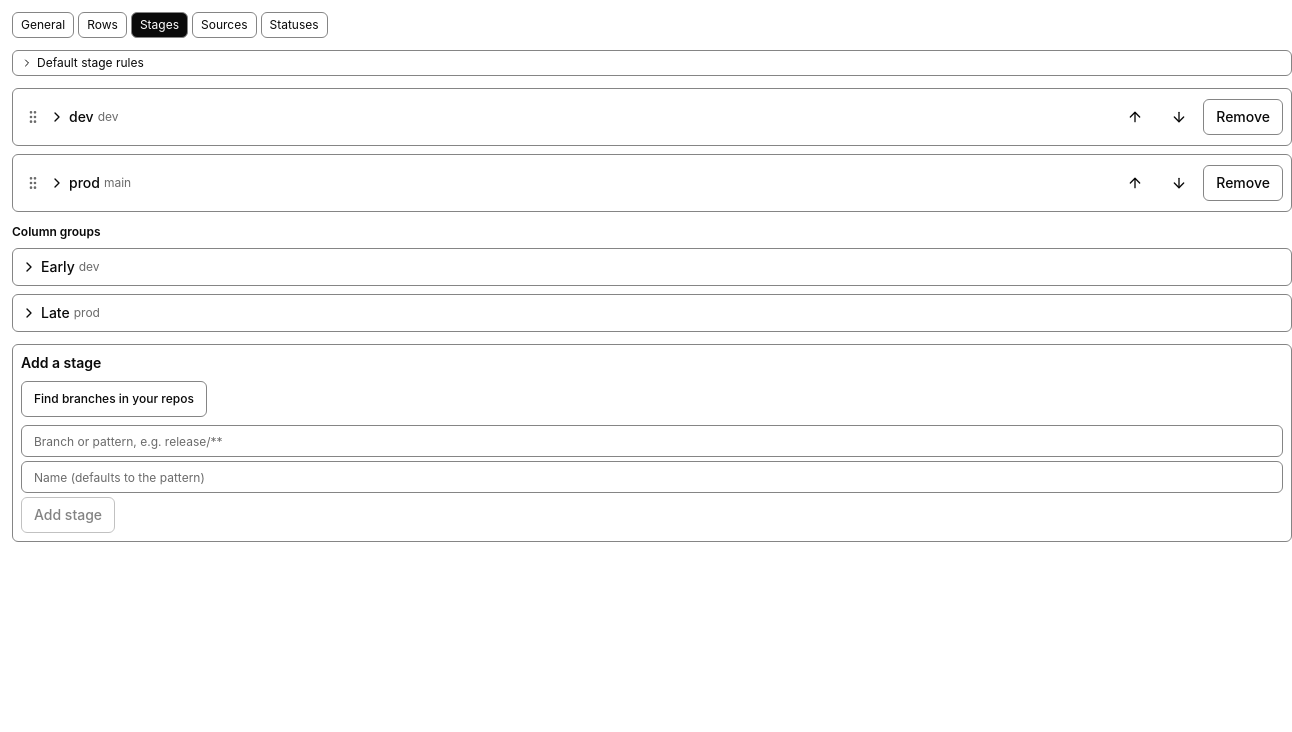
Test: one open at a time › opens a stage with its rules shown (one click)
Click the button "dev dev": (57, 117) [49,107,1111,127]
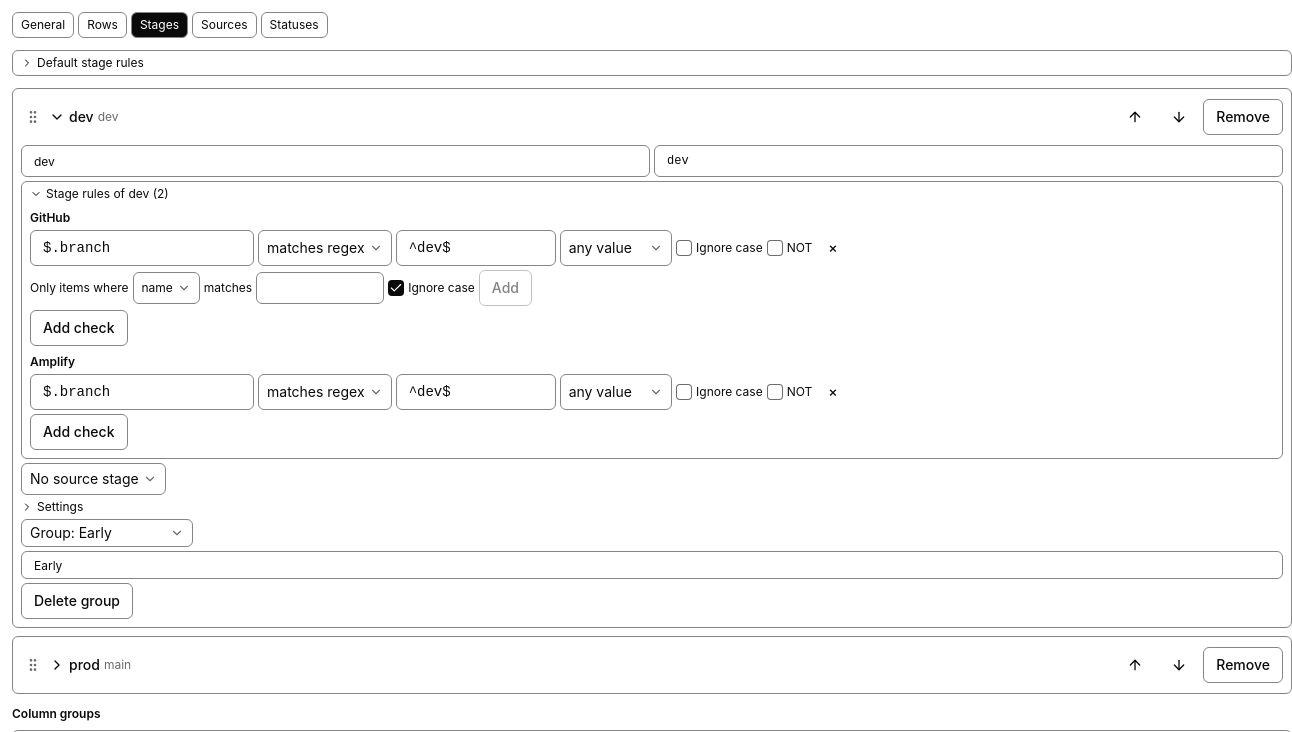
Expected: the element named "Stage rules of dev: GitHub" is shown, [30,230,850,346]
